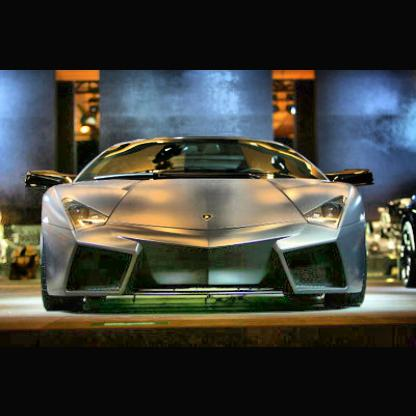Lamborghini Reventon Coupe 2008: (28, 135, 377, 311)
